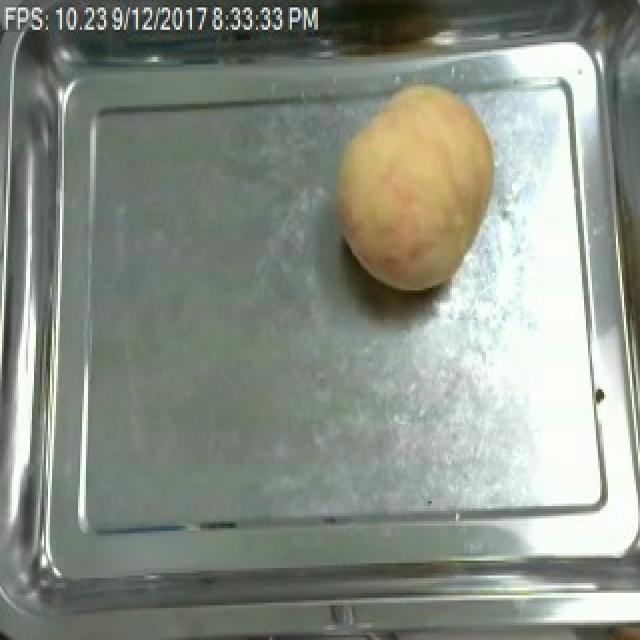Fruit: (324, 70, 508, 300)
